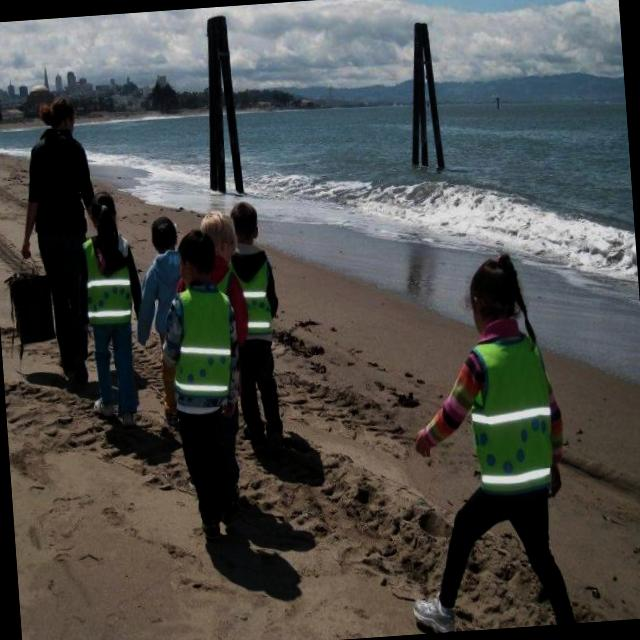vest: (462, 333, 558, 484), (170, 280, 236, 404), (81, 232, 132, 322), (230, 246, 280, 337)
